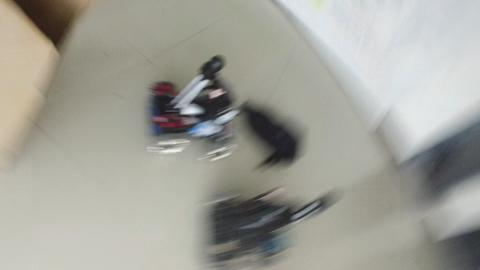chariot: (147, 56, 244, 157)
